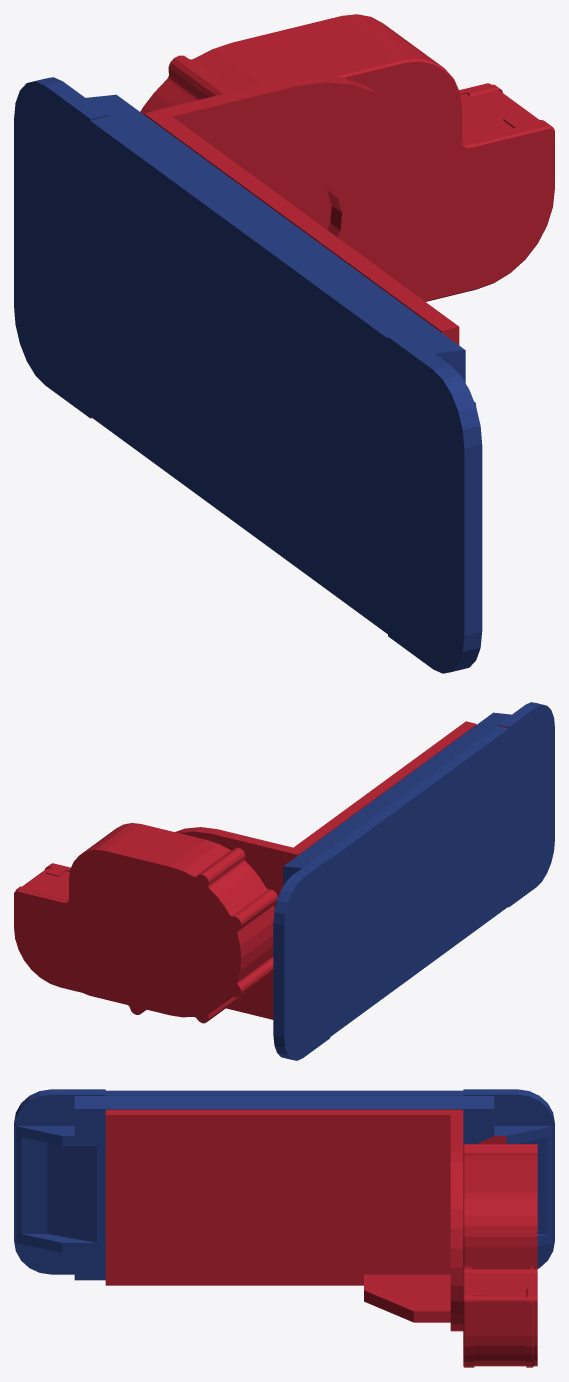
The model's file is arm_carriage_link.DAE.
3 renders of one model, top to bottom at view 1: azimuth 30°, elevation 25°; view 2: azimuth 150°, elevation 25°; view 3: azimuth 270°, elevation 25°, orthographic. The views are drawn at different scales.
Parts seen in each view (by area): view 1: arm_carriage_link; view 2: arm_carriage_link; view 3: arm_carriage_link.
Part boxes in pixels (<box>): arm_carriage_link: <box>14,14,554,673</box>; arm_carriage_link: <box>14,702,554,1060</box>; arm_carriage_link: <box>14,1089,554,1367</box>.
Bounding box in the file's own units: 0.1301 × 0.218 × 0.08.
